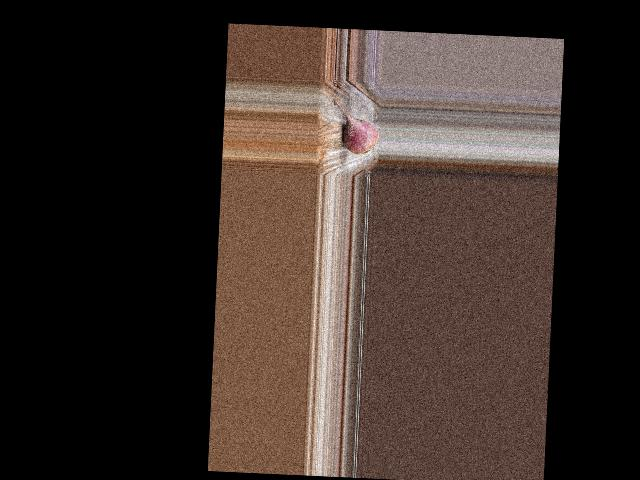beet: (331, 99, 380, 154)
